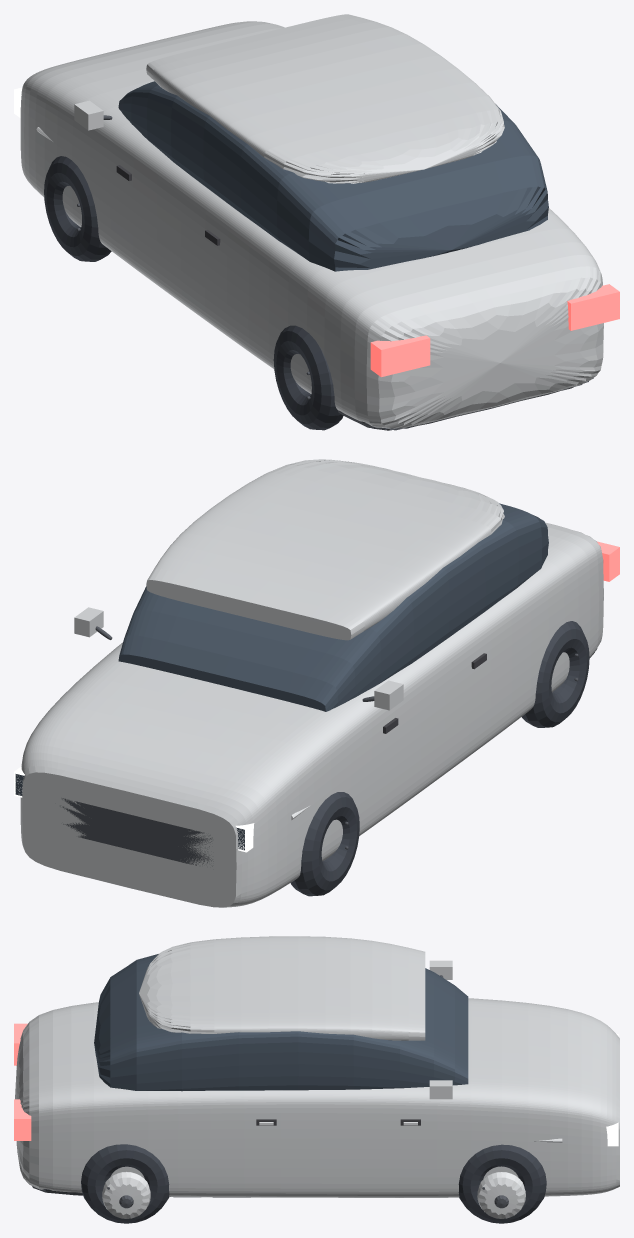
The model's file is car_prata.glb.
3 views of the same model, one above another, from view 1: azimuth 30°, elevation 25°; view 2: azimuth 150°, elevation 25°; view 3: azimuth 270°, elevation 25° (orthographic). The views are drawn at different scales.
Visible parts, largest first — view 1: Hatch, WheelRL, WheelFL; view 2: Hatch, WheelFL, WheelRL; view 3: Hatch, WheelRR, WheelFR.
Part boxes in pixels (box(x1,y1,x2,y2)): Hatch: box(14, 14, 619, 430); WheelRL: box(273, 325, 343, 430); WheelFL: box(44, 156, 111, 261); Hatch: box(14, 459, 619, 907); WheelFL: box(290, 792, 359, 896); WheelRL: box(522, 621, 589, 727); Hatch: box(14, 936, 619, 1197); WheelRR: box(81, 1144, 169, 1223); WheelFR: box(458, 1144, 546, 1223).
Bounding box in the file's own units: 2.06 × 1.49 × 4.2.
